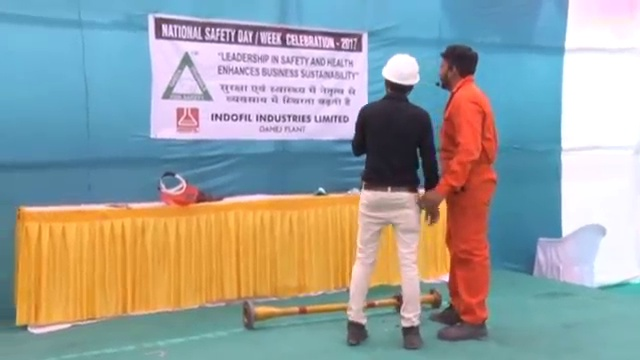helmet: (381, 53, 420, 84)
helmet_off: (437, 43, 479, 93)
helmet_on: (379, 51, 421, 102)
person: (344, 50, 433, 348), (425, 43, 498, 337)
